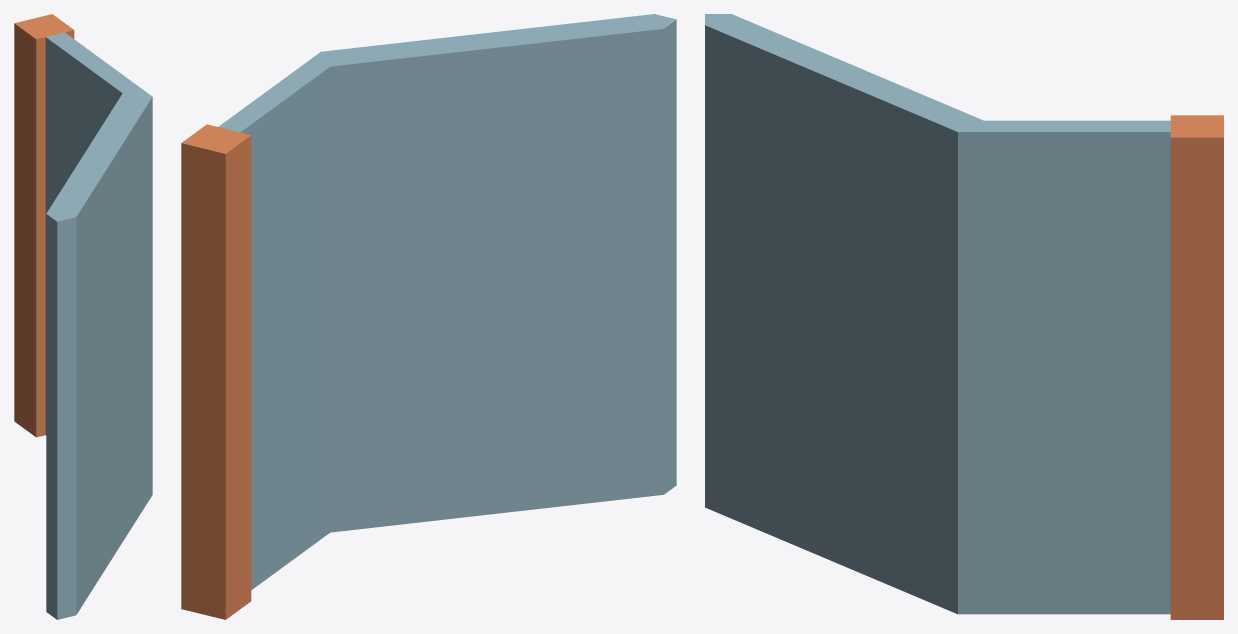
Rendered from wallCornerDiagonalHalf.obj.
3 views of the same model, side by side, from view 1: azimuth 30°, elevation 25°; view 2: azimuth 150°, elevation 25°; view 3: azimuth 270°, elevation 25° (orthographic). The views are drawn at different scales.
Parts seen in each view (by area): view 1: wallCornerDiagonalHalf; view 2: wallCornerDiagonalHalf; view 3: wallCornerDiagonalHalf.
Boxes of the visible parts, x1=… form: wallCornerDiagonalHalf: x1=14, y1=14, x2=152, y2=619; wallCornerDiagonalHalf: x1=181, y1=14, x2=676, y2=619; wallCornerDiagonalHalf: x1=705, y1=14, x2=1223, y2=619.
Size of the model in its own units: 0.55 by 1 by 0.975.
